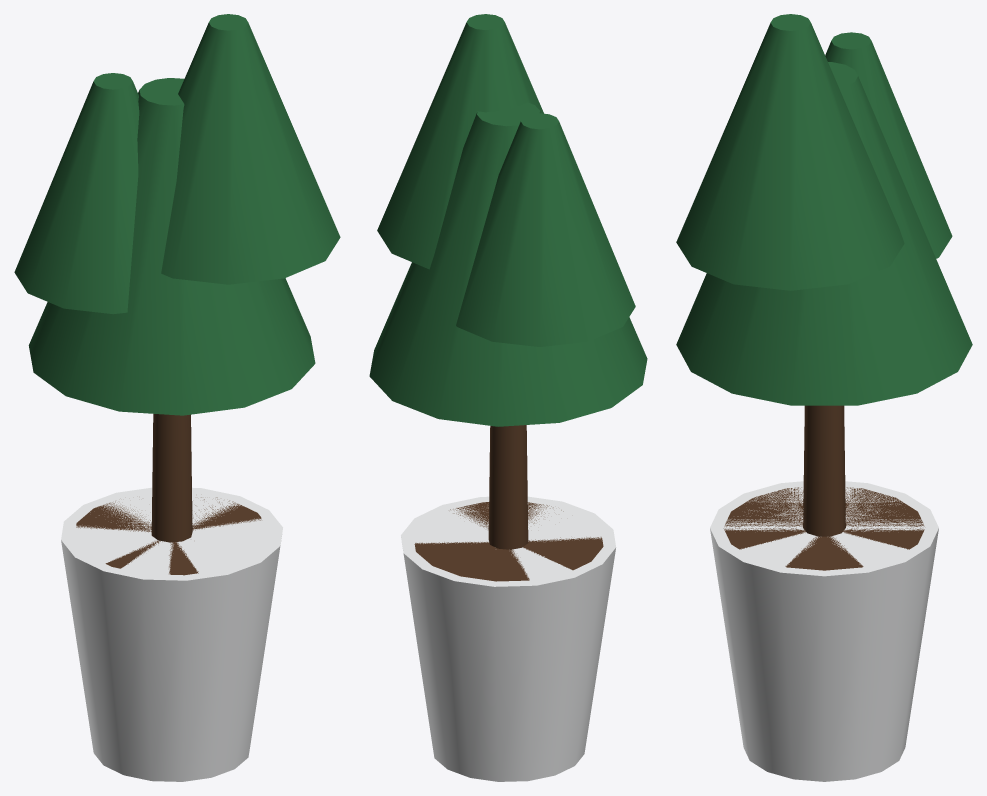
Rendered from indoor_plant.glb.
3 renders of one model, left to right at view 1: azimuth 30°, elevation 25°; view 2: azimuth 150°, elevation 25°; view 3: azimuth 270°, elevation 25°, orthographic. The views are drawn at different scales.
Bounding box in the file's own units: 0.47 × 1.22 × 0.44.
